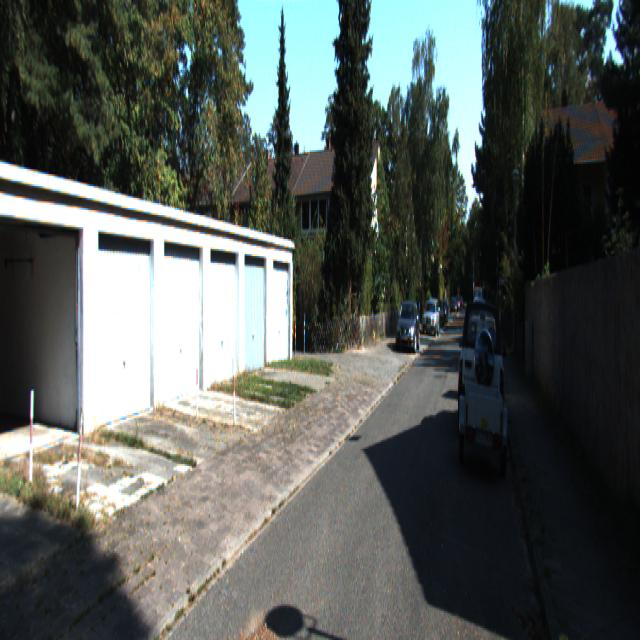Car: (458, 292, 503, 440), (397, 300, 421, 353), (422, 298, 440, 335)
DontCare: (442, 279, 457, 327)
Misc: (465, 381, 506, 484)
